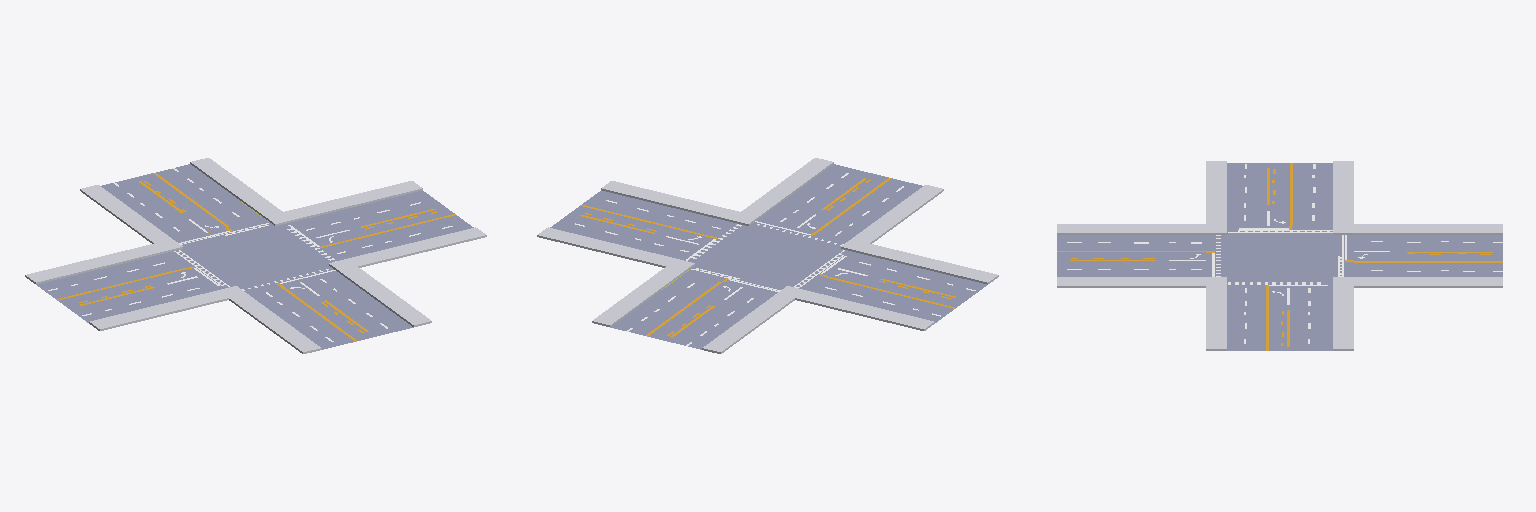
The picture shows the model from 3 angles: view 1: azimuth 30°, elevation 25°; view 2: azimuth 150°, elevation 25°; view 3: azimuth 270°, elevation 25°; orthographic projection.
Parts seen in each view (by area): view 1: Road_Plane.001; view 2: Road_Plane.001; view 3: Road_Plane.001.
Boxes of the visible parts, <box> form: Road_Plane.001: <box>25,158,486,353</box>; Road_Plane.001: <box>537,158,998,353</box>; Road_Plane.001: <box>1057,161,1502,350</box>.
Size of the model in its own units: 20 by 0.1 by 20.
Materials: 2 (1 with a texture image).